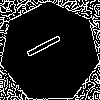I: (25, 27, 71, 61)
